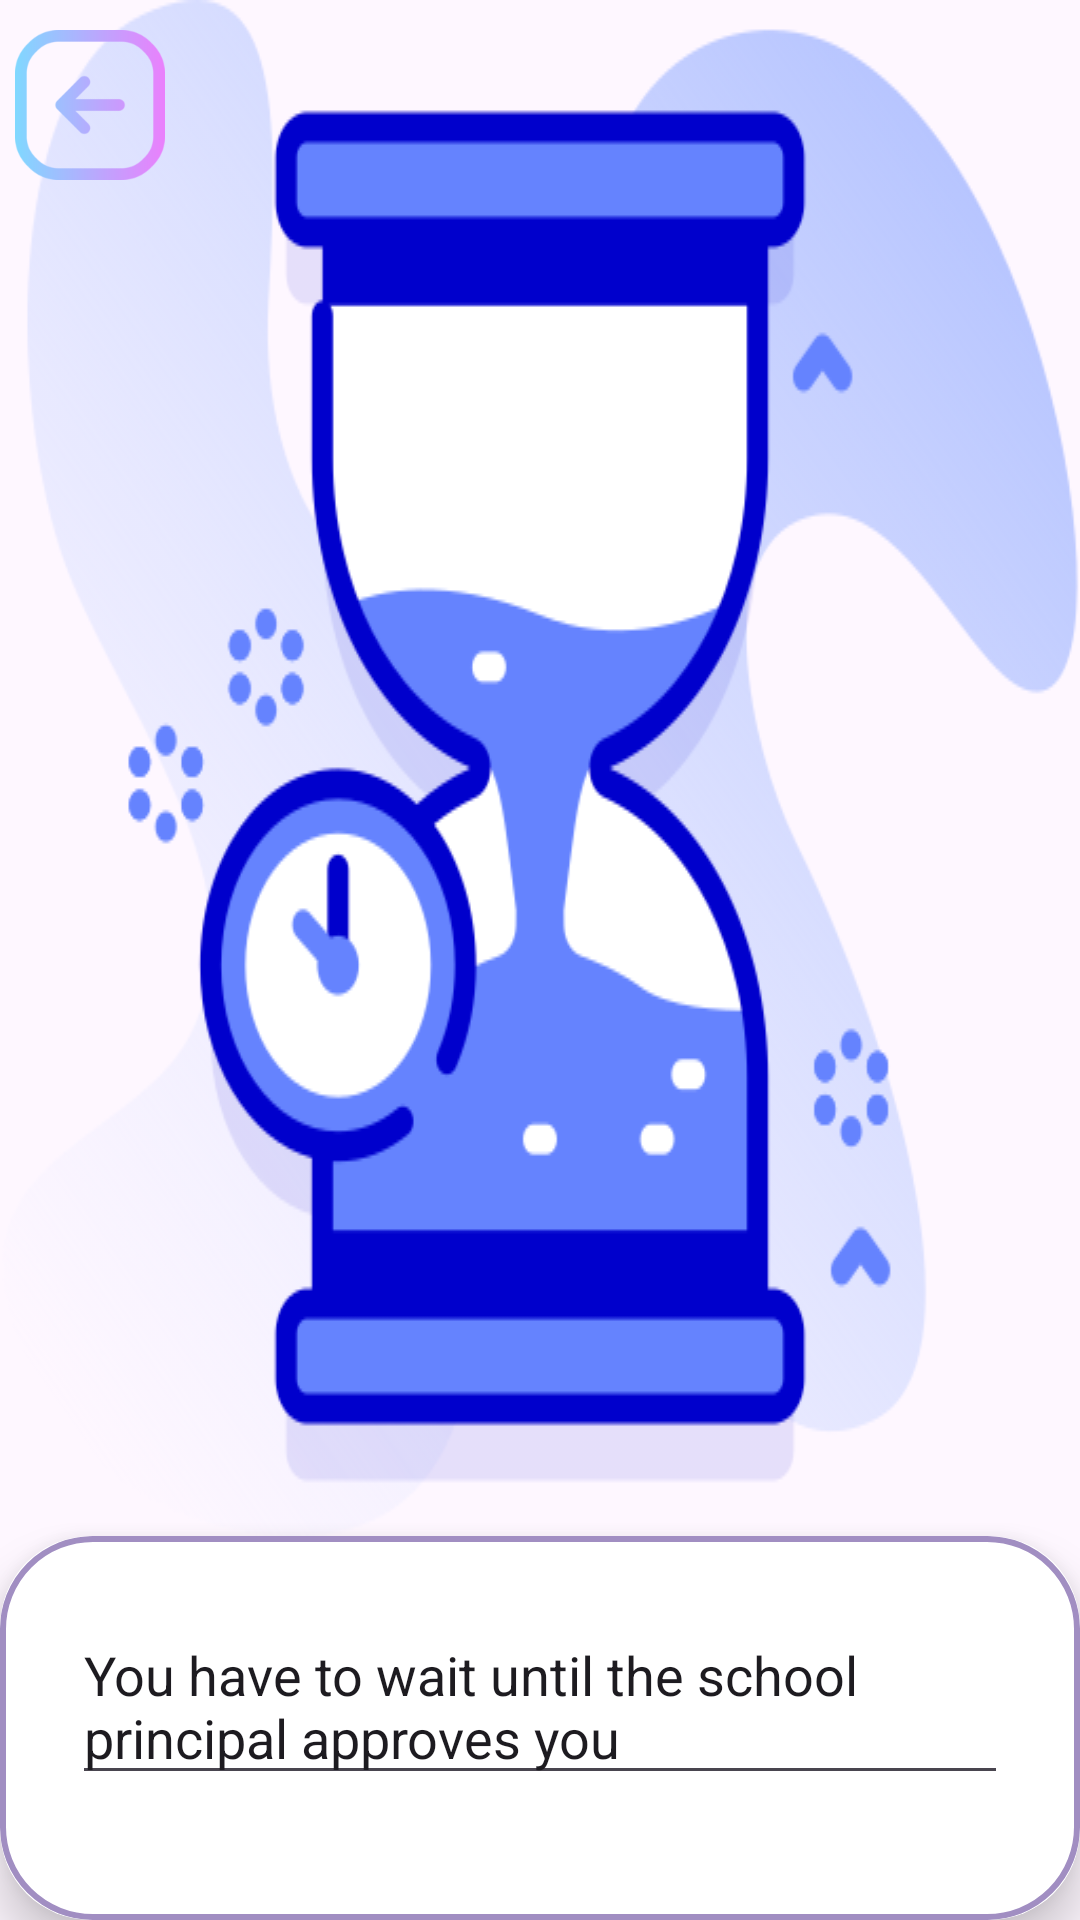

Icons on this 1080w x 1920h Android screen, each with the point to tap as (x,y):
backicon: (90,105)
